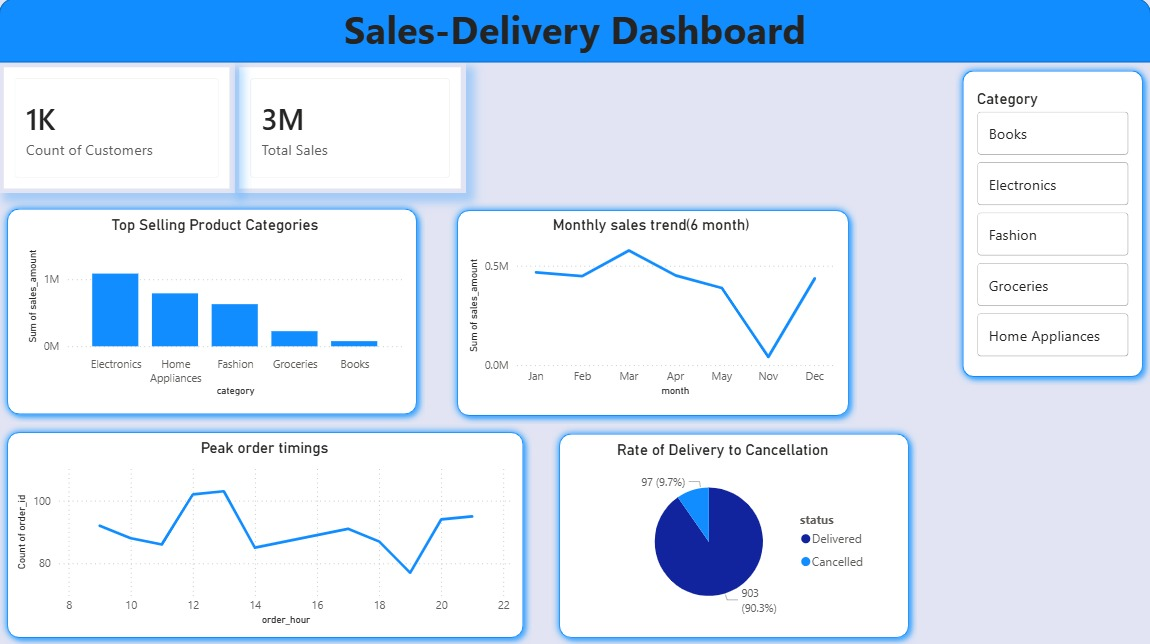

This screenshot's page, from the dashboard's own definition file:
{"tool":"powerbi","page":{"name":"Page 1","canvas":[1280,720],"ordinal":0},"visuals":[{"type":"cardVisual","title":"Total sales ","fields":{"Data":["Sum(sales_delivery_data.sales_amount)"]},"box":[261.7,71.7,256.7,145],"z":0},{"type":"cardVisual","fields":{"Data":["CountNonNull(sales_delivery_data.order_id)"]},"box":[0,71.7,261.7,145],"z":1000},{"type":"shape","box":[0,0,1280,71.7],"z":2000},{"type":"textbox","box":[0,0,1280,71.7],"z":3000},{"type":"shape","box":[0,225,473.3,246.7],"z":4000},{"type":"shape","box":[499.4,226.1,453.3,246.7],"z":5000},{"type":"columnChart","title":"Top Selling Product Categories","fields":{"Category":["sales_delivery_data.category"],"Y":["Sum(sales_delivery_data.sales_amount)"]},"box":[26.1,241.1,426.7,205],"z":6000},{"type":"lineChart","title":"Monthly sales trend(6 month)","fields":{"Category":["sales_delivery_data.month"],"Y":["Sum(sales_delivery_data.sales_amount)"]},"box":[516.1,241.1,415,205],"z":7000},{"type":"shape","box":[0,473.3,591.7,246.7],"z":8000},{"type":"shape","box":[613.3,475,406.7,245],"z":9000},{"type":"lineChart","title":"Peak order timings","fields":{"Category":["sales_delivery_data.order_hour"],"Y":["CountNonNull(sales_delivery_data.order_id)"]},"box":[15,490,560,211.7],"z":10000},{"type":"pieChart","title":"Rate of Delivery to Cancellation ","fields":{"Category":["sales_delivery_data.status"],"Y":["CountNonNull(sales_delivery_data.order_id)"]},"box":[681.1,491.1,293.3,205],"z":11000},{"type":"shape","box":[1061.7,71.7,218.3,358.3],"z":12000},{"type":"advancedSlicerVisual","fields":{"Values":["sales_delivery_data.category"]},"box":[1081.7,101.7,178.3,303.3],"z":13000}]}

Visuals, with their boxes in screenshot pixels (x1, y1, x2, y2), scaled from the page's 1280x720 canvas onto the 1150x644 screenshot:
"Total sales " cardVisual: BBox(235, 64, 466, 194)
cardVisual - CountNonNull(sales_delivery_data.order_id): BBox(0, 64, 235, 194)
shape: BBox(0, 0, 1149, 64)
textbox: BBox(0, 0, 1149, 64)
shape: BBox(0, 201, 425, 422)
shape: BBox(449, 202, 856, 423)
"Top Selling Product Categories" columnChart: BBox(23, 216, 407, 399)
"Monthly sales trend(6 month)" lineChart: BBox(464, 216, 837, 399)
shape: BBox(0, 423, 532, 643)
shape: BBox(551, 425, 916, 643)
"Peak order timings" lineChart: BBox(13, 438, 517, 628)
"Rate of Delivery to Cancellation " pieChart: BBox(612, 439, 875, 623)
shape: BBox(954, 64, 1149, 385)
advancedSlicerVisual - sales_delivery_data.category: BBox(972, 91, 1132, 362)
